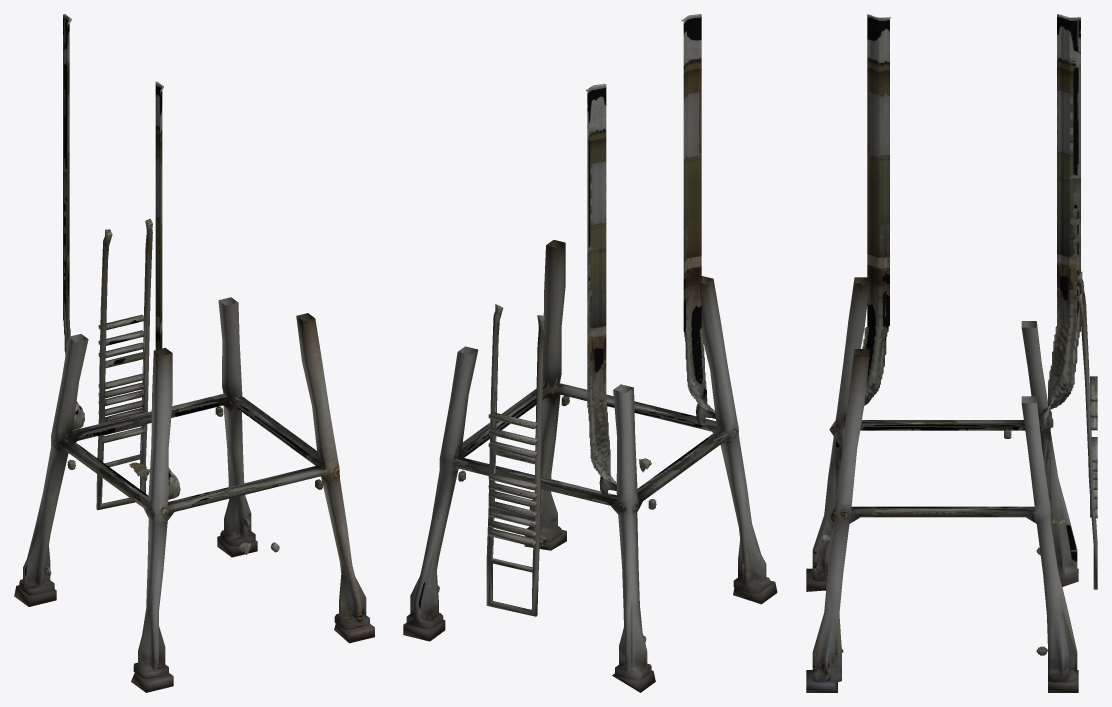
File: watchtower.glb
3 renders of one model, left to right at view 1: azimuth 30°, elevation 25°; view 2: azimuth 150°, elevation 25°; view 3: azimuth 270°, elevation 25°, orthographic. The views are drawn at different scales.
Parts seen in each view (by area): view 1: tripo_node_13969156-4d14-46e0-9b67-66cd3c7cf57a; view 2: tripo_node_13969156-4d14-46e0-9b67-66cd3c7cf57a; view 3: tripo_node_13969156-4d14-46e0-9b67-66cd3c7cf57a.
Part boxes in pixels (bbox=[...]): tripo_node_13969156-4d14-46e0-9b67-66cd3c7cf57a: bbox=[14, 14, 374, 692]; tripo_node_13969156-4d14-46e0-9b67-66cd3c7cf57a: bbox=[403, 14, 777, 692]; tripo_node_13969156-4d14-46e0-9b67-66cd3c7cf57a: bbox=[806, 14, 1097, 692].
Size of the model in its own units: 0.4207 by 1 by 0.4501.
Materials: 1 (1 with a texture image).
